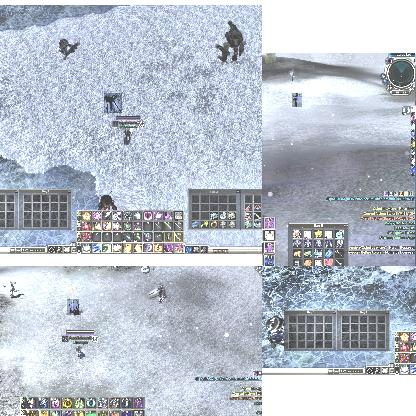caliana: (104, 93, 122, 113), (149, 283, 167, 301), (4, 281, 18, 297), (67, 299, 79, 315), (292, 93, 302, 107), (288, 70, 298, 80)
